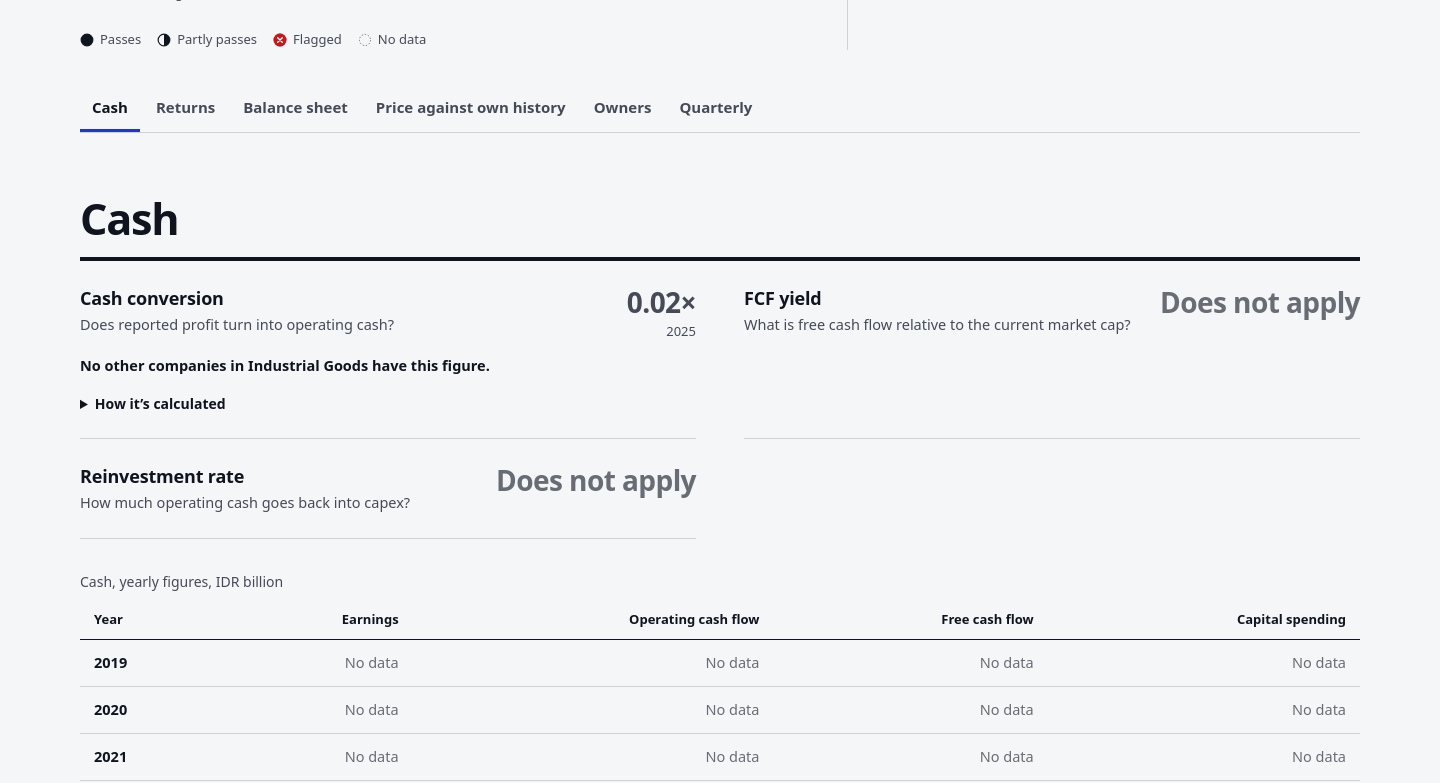
it: Company profile page › shows the plain cash calculation with its IDR input and source date
(page scrolled)
Click the heading "How it’s calculated": x=160, y=404 [95,394,226,413]
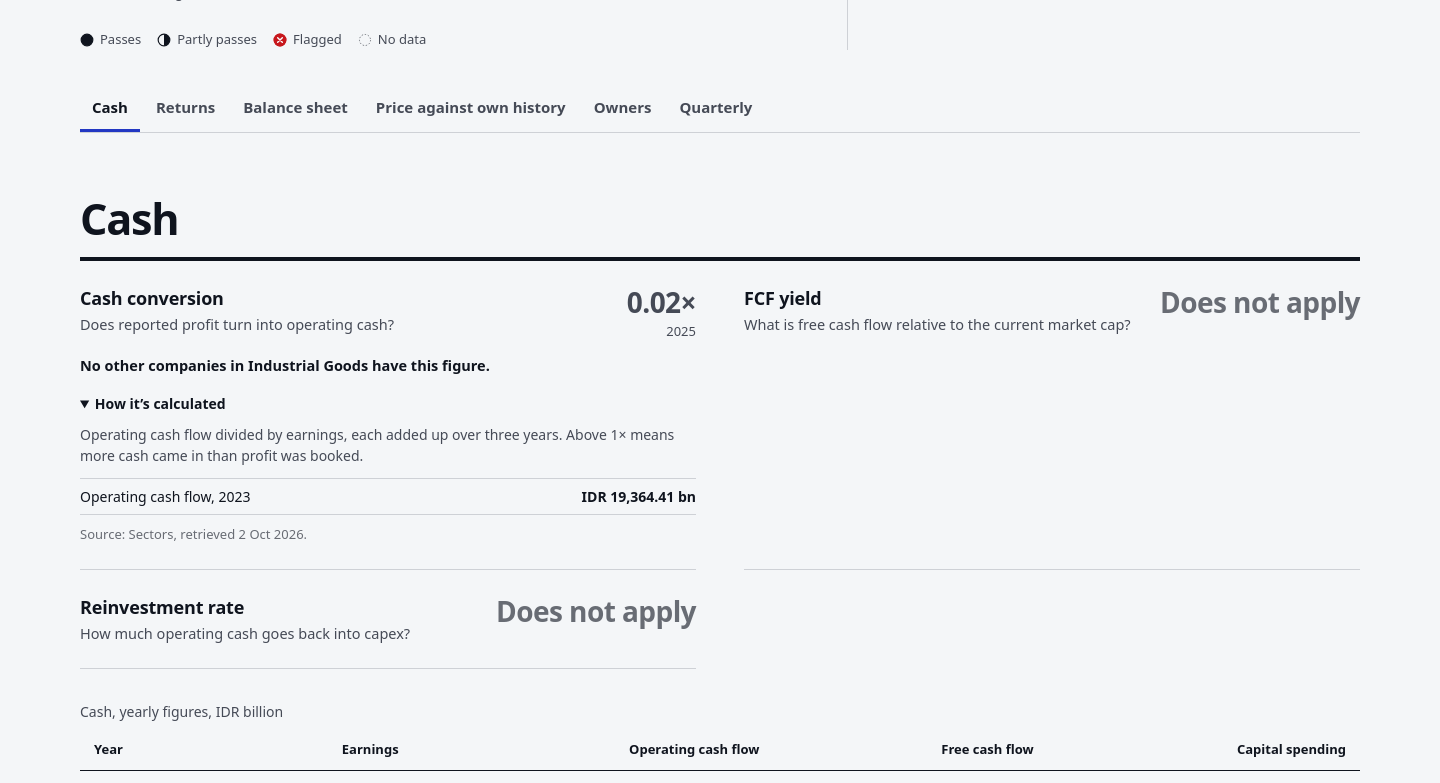
Expected: the text "Operating cash flow, 2023" is shown, [80,486,250,507]
Expected: the text "IDR 19,364.41 bn" is shown, [582,486,696,507]
Expected: the text "Operating cash flow divided by earnings, each added up over three years. Above 1× means more cash came in than profit wa" is shown, [80,425,674,465]
